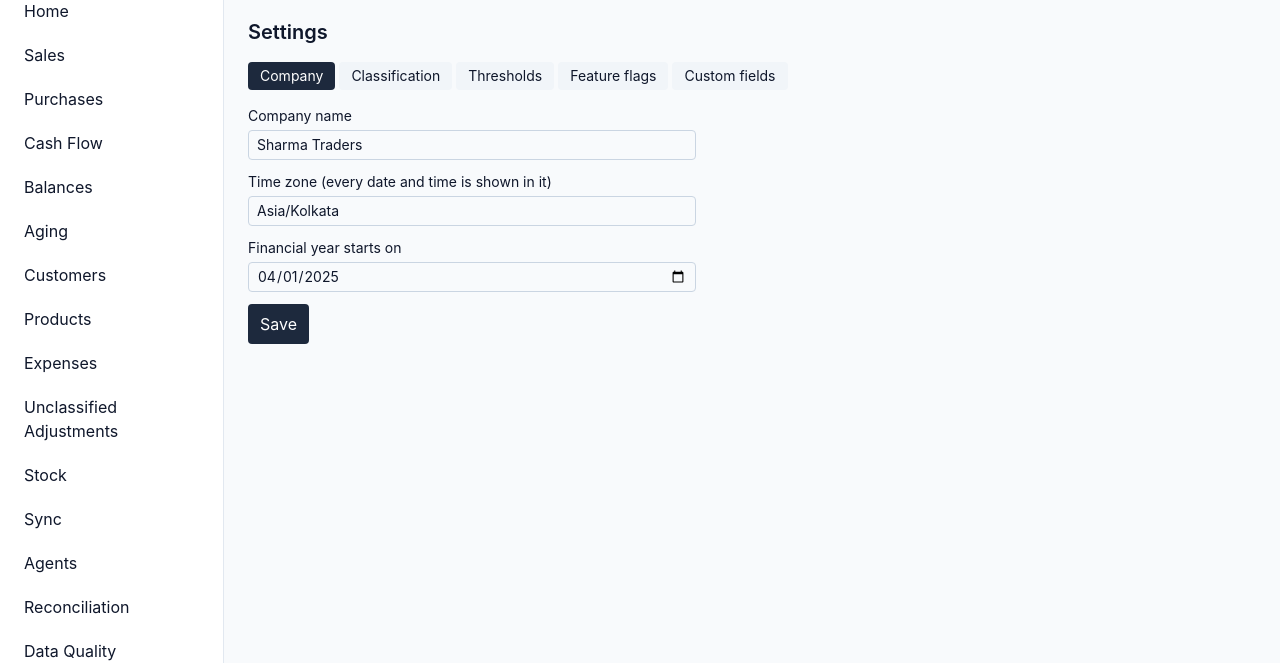
Scenario: Settings (P13.8) › flags allow-list entries no longer in Tally and sends identifiers, never names (D-001)
The image size is (1280, 663).
Click the tab "Classification": (396, 76) [339,62,452,90]
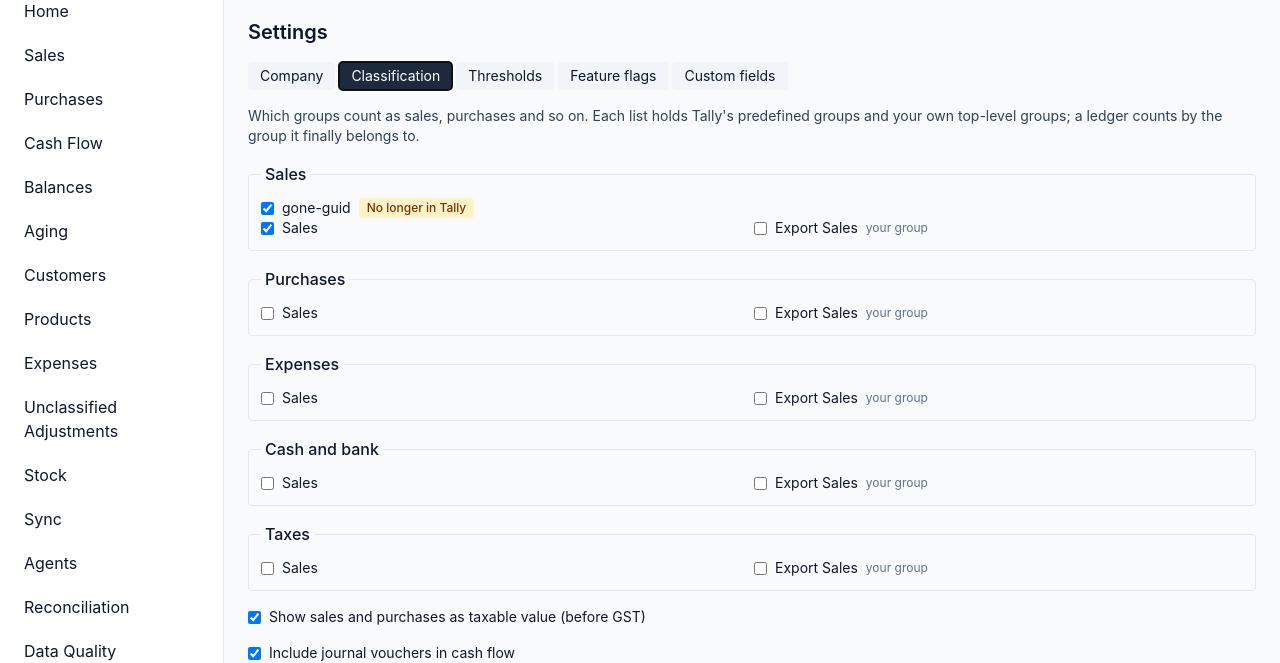
Click the 1st checkbox labelled "Export Sales your group": (760, 228) [754,222,767,234]
(page scrolled)
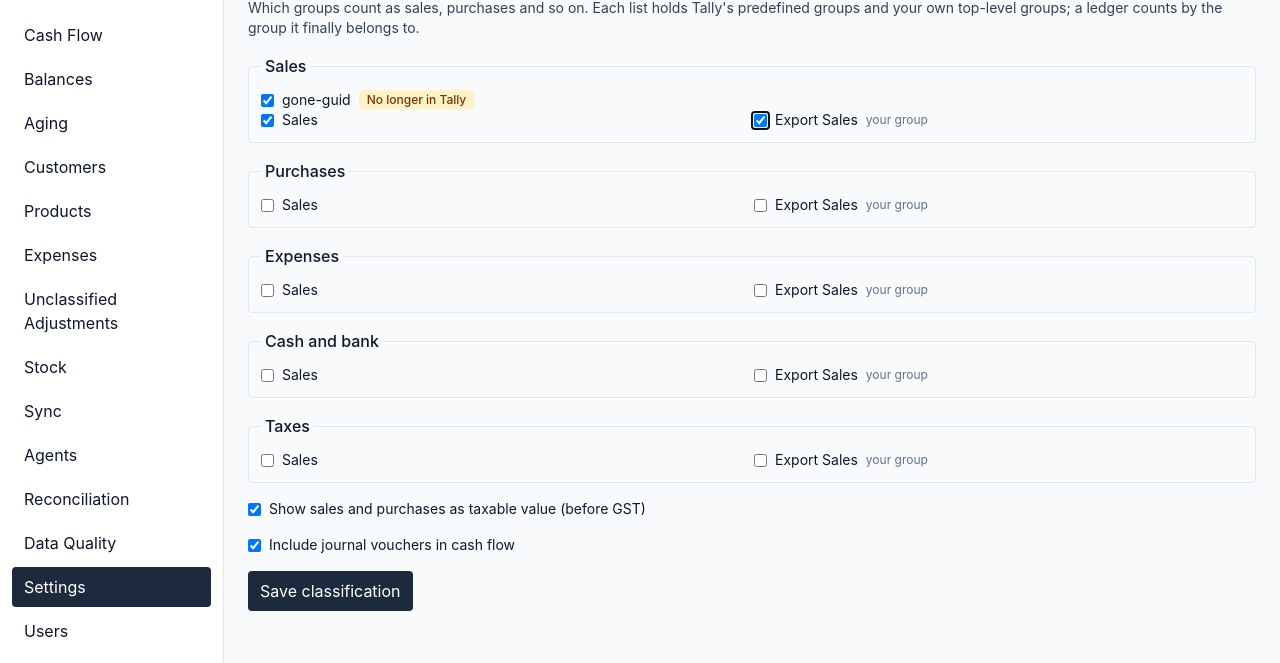
Click the button "Save classification": (330, 591) [248,571,412,611]
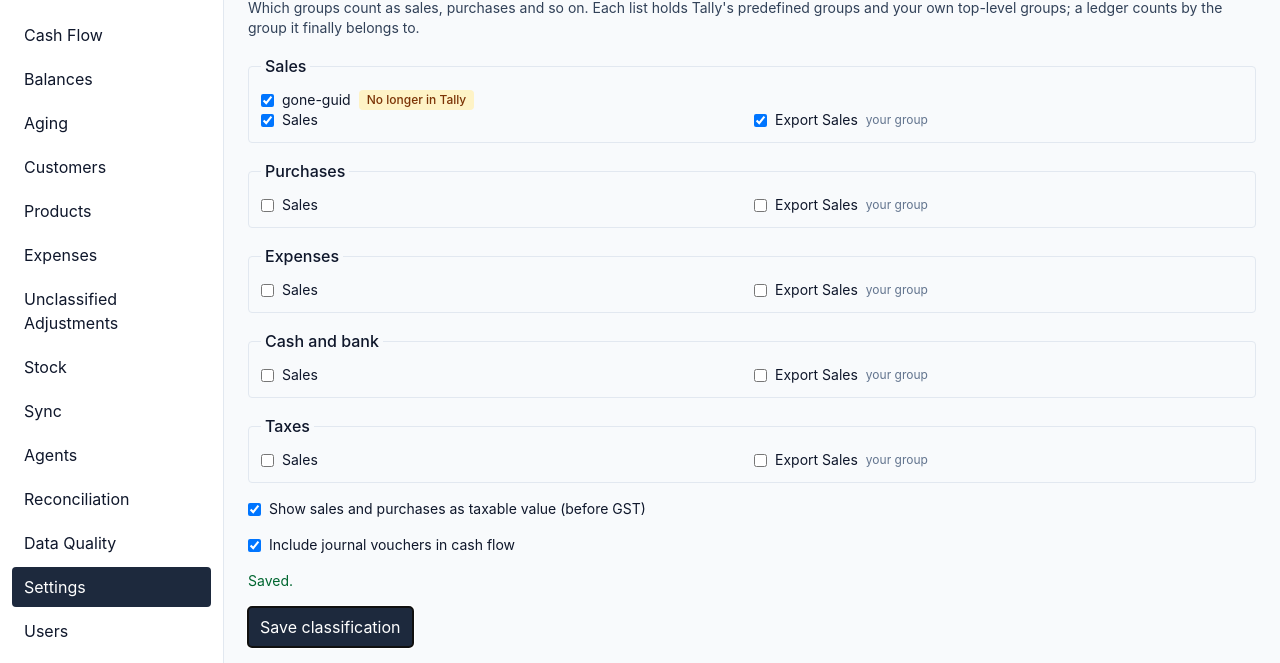
Expected: the message "Saved." is shown, [248,572,293,589]
